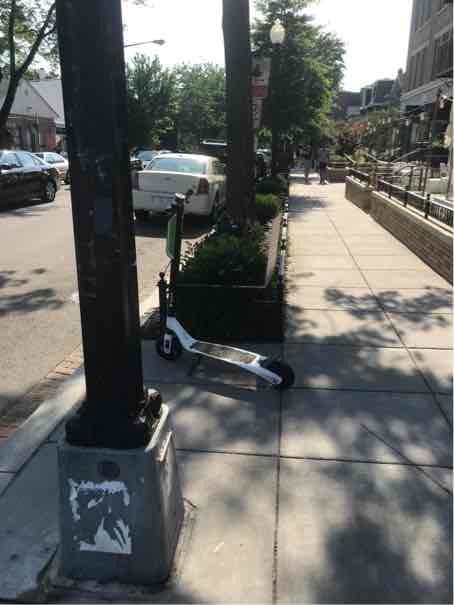scooter: (141, 184, 298, 413)
